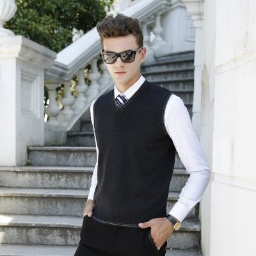face: (93, 14, 147, 82)
